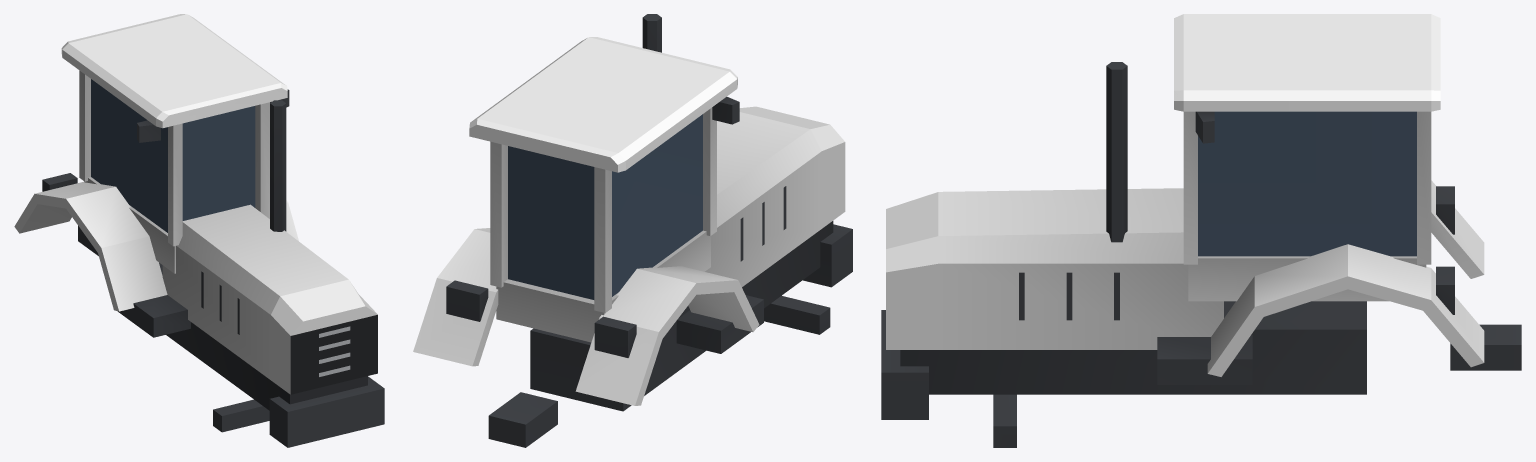
The model's file is tractor.glb.
3 views of the same model, side by side, from view 1: azimuth 30°, elevation 25°; view 2: azimuth 150°, elevation 25°; view 3: azimuth 270°, elevation 25° (orthographic). The views are drawn at different scales.
Parts seen in each view (by area): view 1: Tractor; view 2: Tractor; view 3: Tractor.
Boxes of the visible parts, x1,y1,x2,y2 form: Tractor: (14,14,384,447); Tractor: (413,14,852,447); Tractor: (881,14,1521,447).
Size of the model in its own units: 1.2 by 1.65 by 2.69.
